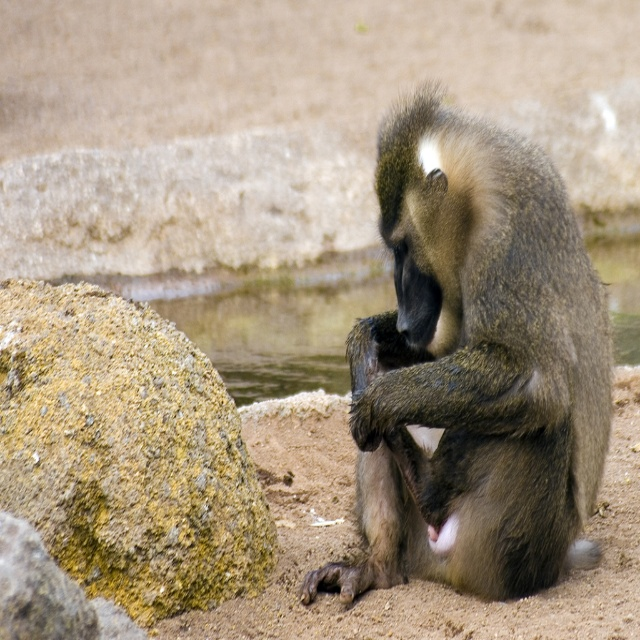Monkey: (333, 89, 625, 640)
